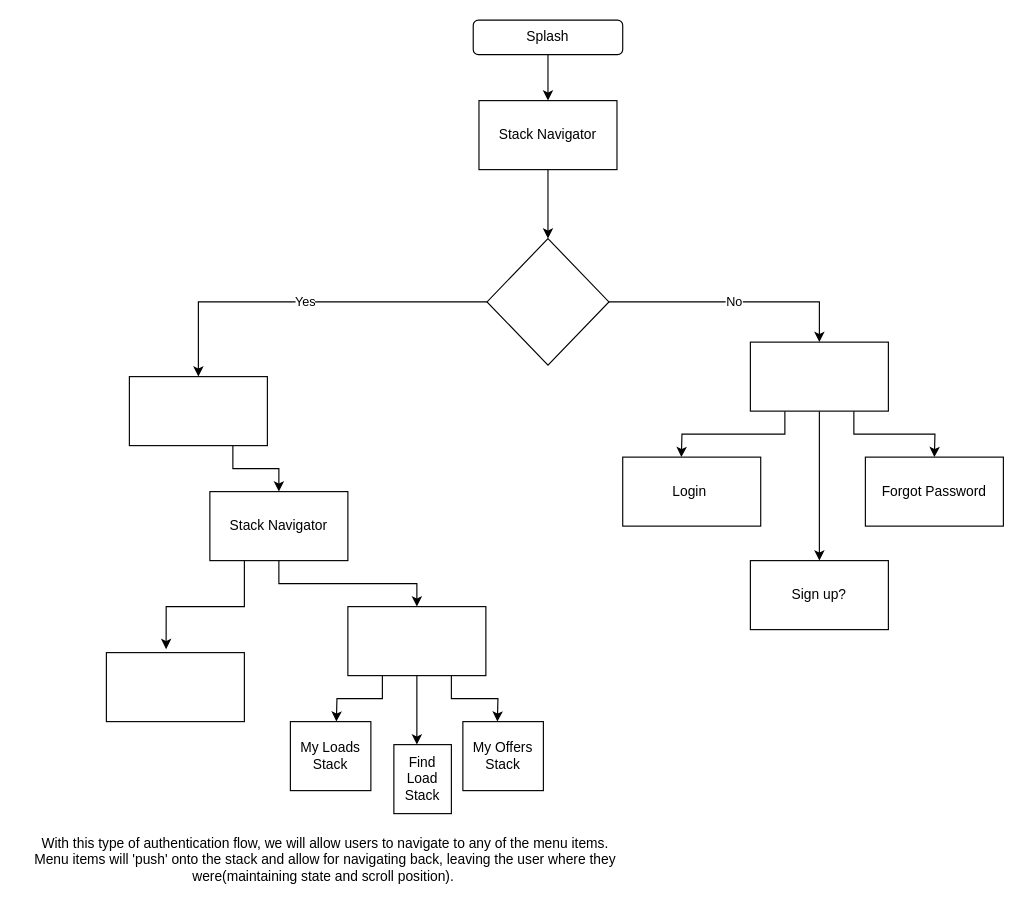
Some shapes in this 1024 by 914 pixel diagram are drawn without their labels. The shapes that lost their labels are listed below. From the top down, each one's centre as x and y in pixels, then its label:
At [547,301]: "Is Authenticated".
At [818,376]: "Login Stack".
At [197,410]: "Drawer Navigator".
At [416,640]: "Tab Navigation".
At [174,686]: "Menu Items".
